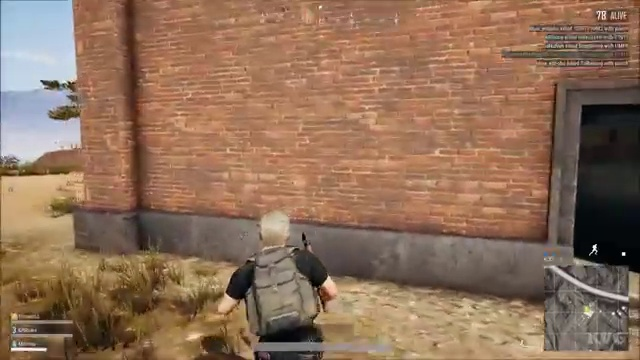Player: (202, 204, 368, 330)
